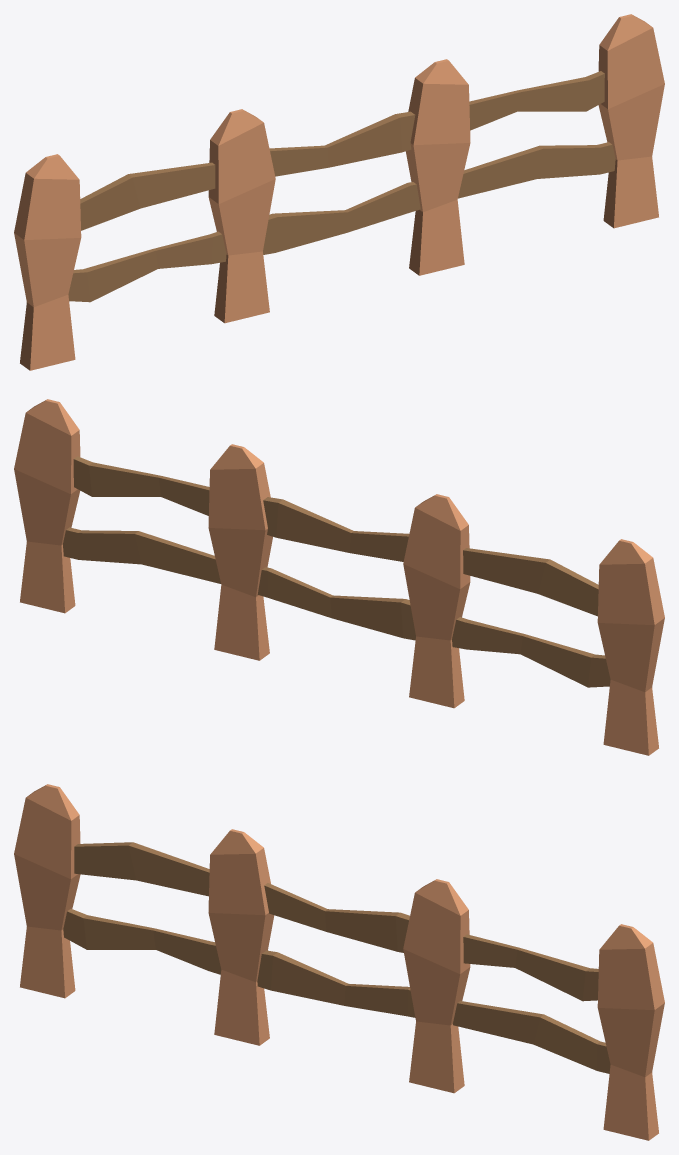
The model's file is fence.fbx.
3 renders of one model, top to bottom at view 1: azimuth 30°, elevation 25°; view 2: azimuth 150°, elevation 25°; view 3: azimuth 330°, elevation 25°, orthographic.
Parts seen in each view (by area): view 1: Plane.004; view 2: Plane.004; view 3: Plane.004.
Boxes of the visible parts, x1,y1,x2,y2 form: Plane.004: (14, 14, 664, 370); Plane.004: (14, 399, 664, 755); Plane.004: (14, 784, 664, 1140).
Size of the model in its own units: 894 by 272 by 24.94.
